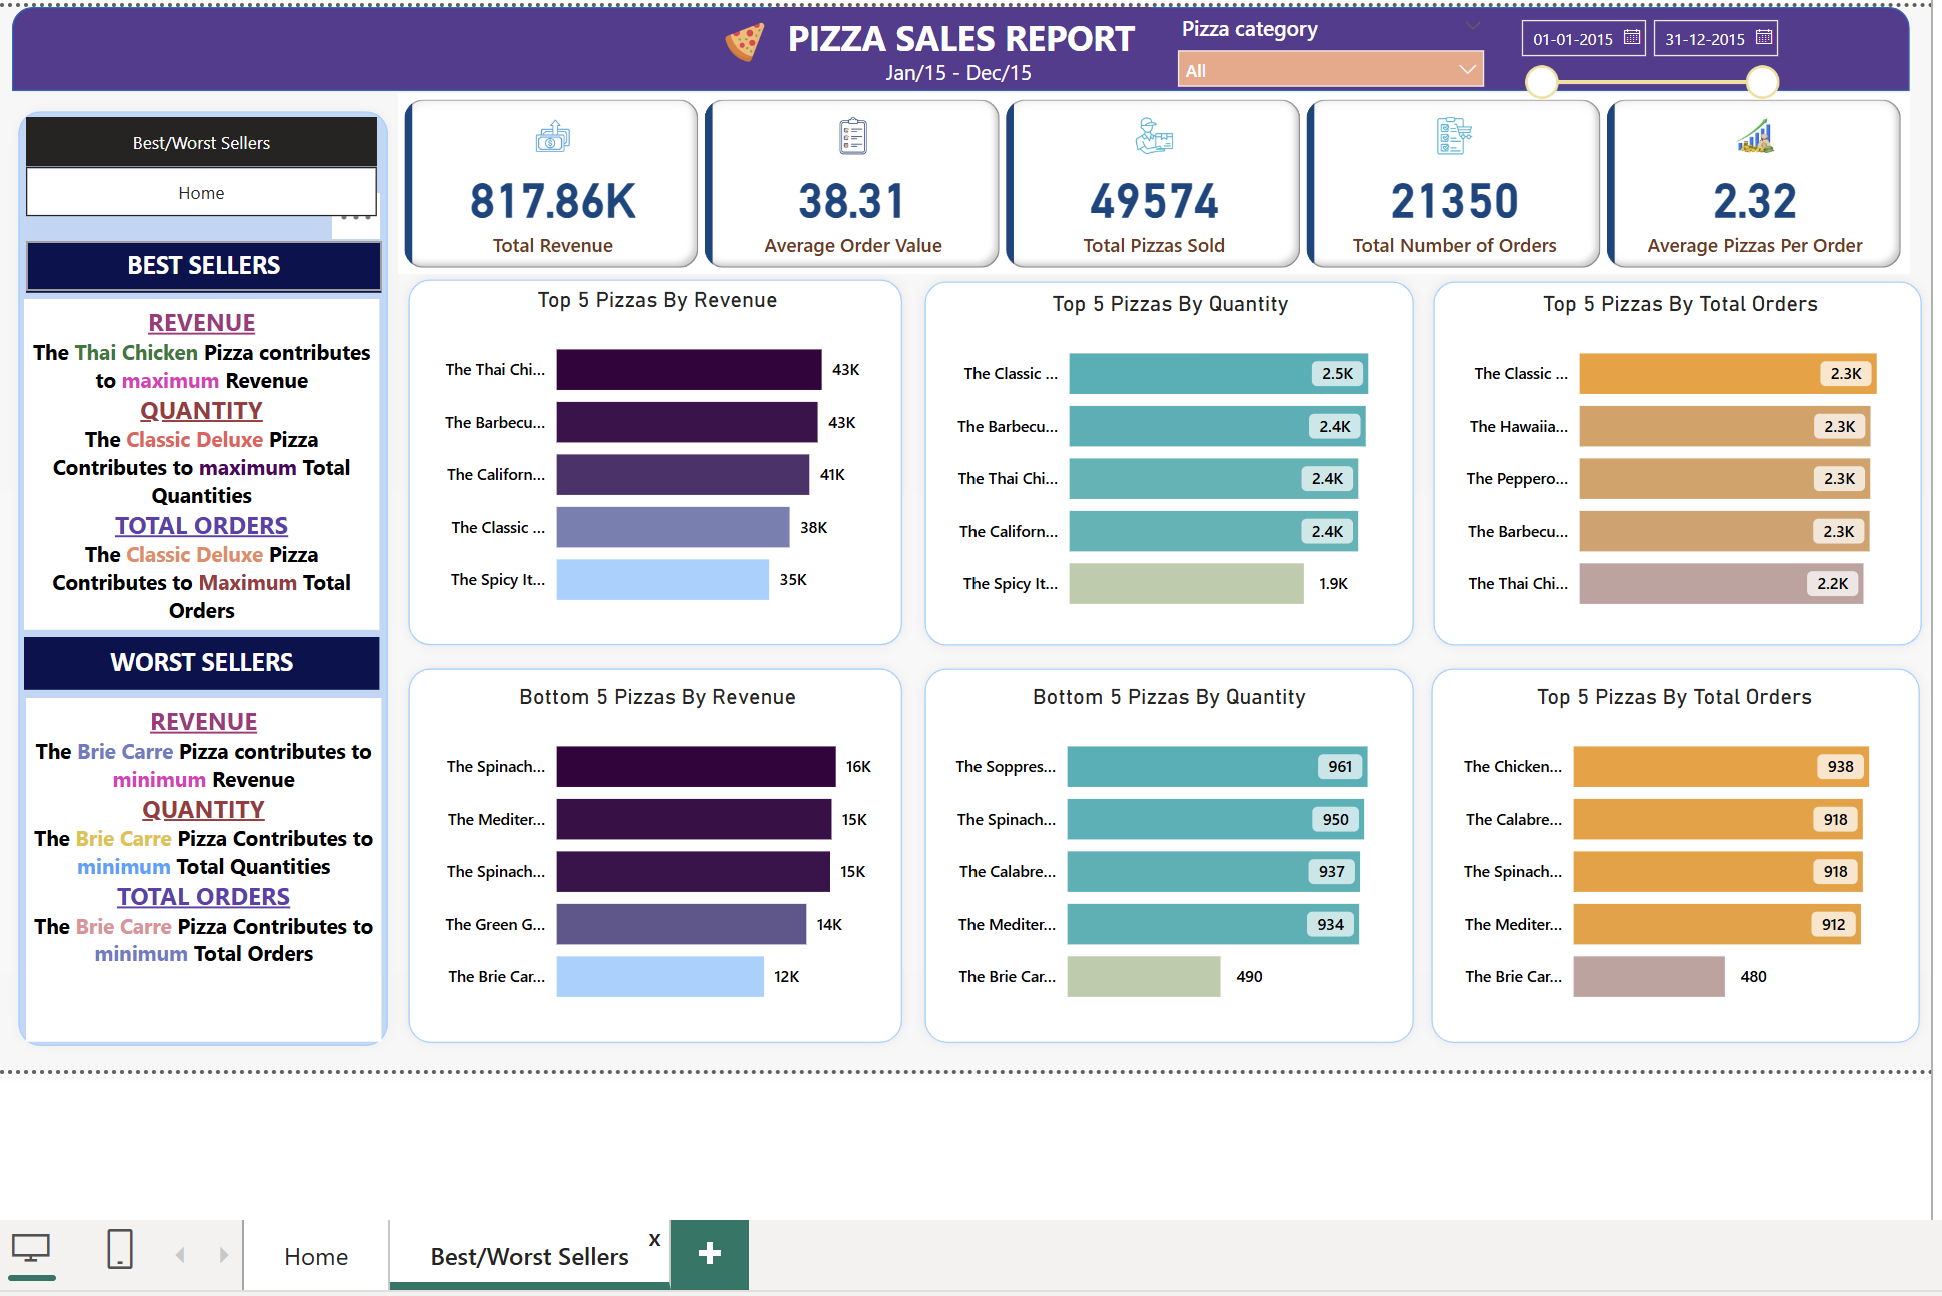

What the dashboard file says about the page in this screenshot:
{"tool":"powerbi","page":{"name":"Best/Worst Sellers","canvas":[1500,820],"ordinal":1},"visuals":[{"type":"cardVisual","fields":{"Data":["pizza_sales.Total Revenue","pizza_sales.Average Order Value","pizza_sales.Total Pizzas Sold","pizza_sales.Total Number of Orders","pizza_sales.Average Pizzas Per Order"]},"box":[317.1,65.7,1167.1,140],"z":0},{"type":"shape","box":[18.3,0,1465,65],"z":1000},{"type":"textbox","box":[605,0,291.7,51.7],"z":2000},{"type":"textbox","box":[683.3,33.3,133.3,40],"z":3000},{"type":"image","box":[563.3,1.7,41.7,51.7],"z":4000},{"type":"shape","box":[317.3,202.7,397.3,298.7],"z":5000},{"type":"shape","box":[15.7,72.9,301.4,737.1],"z":6000},{"type":"textbox","box":[30,180,274.3,40],"z":7000},{"type":"textbox","box":[27.1,225.7,274.3,255.7],"z":8000},{"type":"textbox","box":[27.1,487.1,274.3,40],"z":9000},{"type":"textbox","box":[30,532.9,274.3,265.7],"z":10000},{"type":"slicer","fields":{"Values":["pizza_sales.pizza_category"]},"box":[908.3,0,256.7,65],"z":11000},{"type":"slicer","fields":{"Values":["pizza_sales.order_date"]},"box":[1171.7,0,220,71.7],"z":12000},{"type":"shape","box":[714.7,204,393.3,297.3],"z":13000},{"type":"shape","box":[1108,204,393.3,297.3],"z":14000},{"type":"shape","box":[317.3,501.3,397.3,305.3],"z":15000},{"type":"shape","box":[714.7,501.3,393.3,305.3],"z":15001},{"type":"shape","box":[1106.7,501.3,393.3,305.3],"z":15002},{"type":"barChart","title":"Top 5 Pizzas By Revenue","fields":{"Category":["pizza_sales.pizza_name"],"Y":["pizza_sales.Total Revenue"]},"box":[334.7,216,364,264],"z":15003},{"type":"barChart","title":"Bottom 5 Pizzas By Revenue","fields":{"Category":["pizza_sales.pizza_name"],"Y":["pizza_sales.Total Revenue"]},"box":[334.7,522.7,364,264],"z":15004},{"type":"barChart","title":"Top 5 Pizzas By Quantity","fields":{"Category":["pizza_sales.pizza_name"],"Y":["pizza_sales.Total Pizzas Sold"]},"box":[730.7,220,364,264],"z":15005},{"type":"barChart","title":"Bottom 5 Pizzas By Quantity","fields":{"Category":["pizza_sales.pizza_name"],"Y":["pizza_sales.Total Pizzas Sold"]},"box":[729.3,522.7,365.3,264],"z":15006},{"type":"barChart","title":"Top 5 Pizzas By Total Orders","fields":{"Category":["pizza_sales.pizza_name"],"Y":["pizza_sales.Total Number of Orders"]},"box":[1124,220,364,264],"z":15007},{"type":"barChart","title":"Top 5 Pizzas By Total Orders","fields":{"Category":["pizza_sales.pizza_name"],"Y":["pizza_sales.Total Number of Orders"]},"box":[1120,522.7,364,264],"z":15008},{"type":"pageNavigator","box":[30,85.7,271.4,38.6],"z":15009},{"type":"pageNavigator","box":[30,124.3,271.4,38.6],"z":15010}]}

Visuals, with their boxes on the page's 1500x820 design canvas (x1, y1, x2, y2). These are canvas units, not pixel positions in the 1942x1296 screenshot, which may show the page scaled, cropped or inside an application window:
cardVisual - pizza_sales.Total Revenue x pizza_sales.Average Order Value: detection(317, 66, 1484, 206)
shape: detection(18, 0, 1483, 65)
textbox: detection(605, 0, 897, 52)
textbox: detection(683, 33, 817, 73)
image: detection(563, 2, 605, 53)
shape: detection(317, 203, 715, 501)
shape: detection(16, 73, 317, 810)
textbox: detection(30, 180, 304, 220)
textbox: detection(27, 226, 301, 481)
textbox: detection(27, 487, 301, 527)
textbox: detection(30, 533, 304, 799)
slicer - pizza_sales.pizza_category: detection(908, 0, 1165, 65)
slicer - pizza_sales.order_date: detection(1172, 0, 1392, 72)
shape: detection(715, 204, 1108, 501)
shape: detection(1108, 204, 1501, 501)
shape: detection(317, 501, 715, 807)
shape: detection(715, 501, 1108, 807)
shape: detection(1107, 501, 1500, 807)
"Top 5 Pizzas By Revenue" barChart: detection(335, 216, 699, 480)
"Bottom 5 Pizzas By Revenue" barChart: detection(335, 523, 699, 787)
"Top 5 Pizzas By Quantity" barChart: detection(731, 220, 1095, 484)
"Bottom 5 Pizzas By Quantity" barChart: detection(729, 523, 1095, 787)
"Top 5 Pizzas By Total Orders" barChart: detection(1124, 220, 1488, 484)
"Top 5 Pizzas By Total Orders" barChart: detection(1120, 523, 1484, 787)
pageNavigator: detection(30, 86, 301, 124)
pageNavigator: detection(30, 124, 301, 163)
